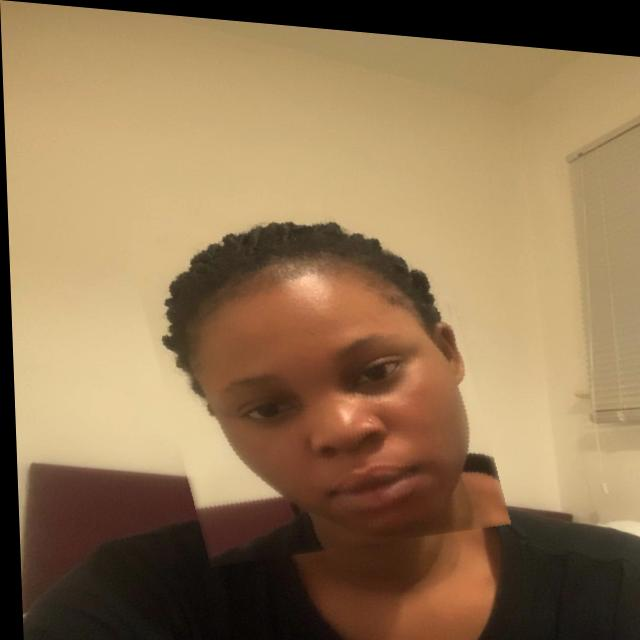sad: (138, 184, 492, 569)
